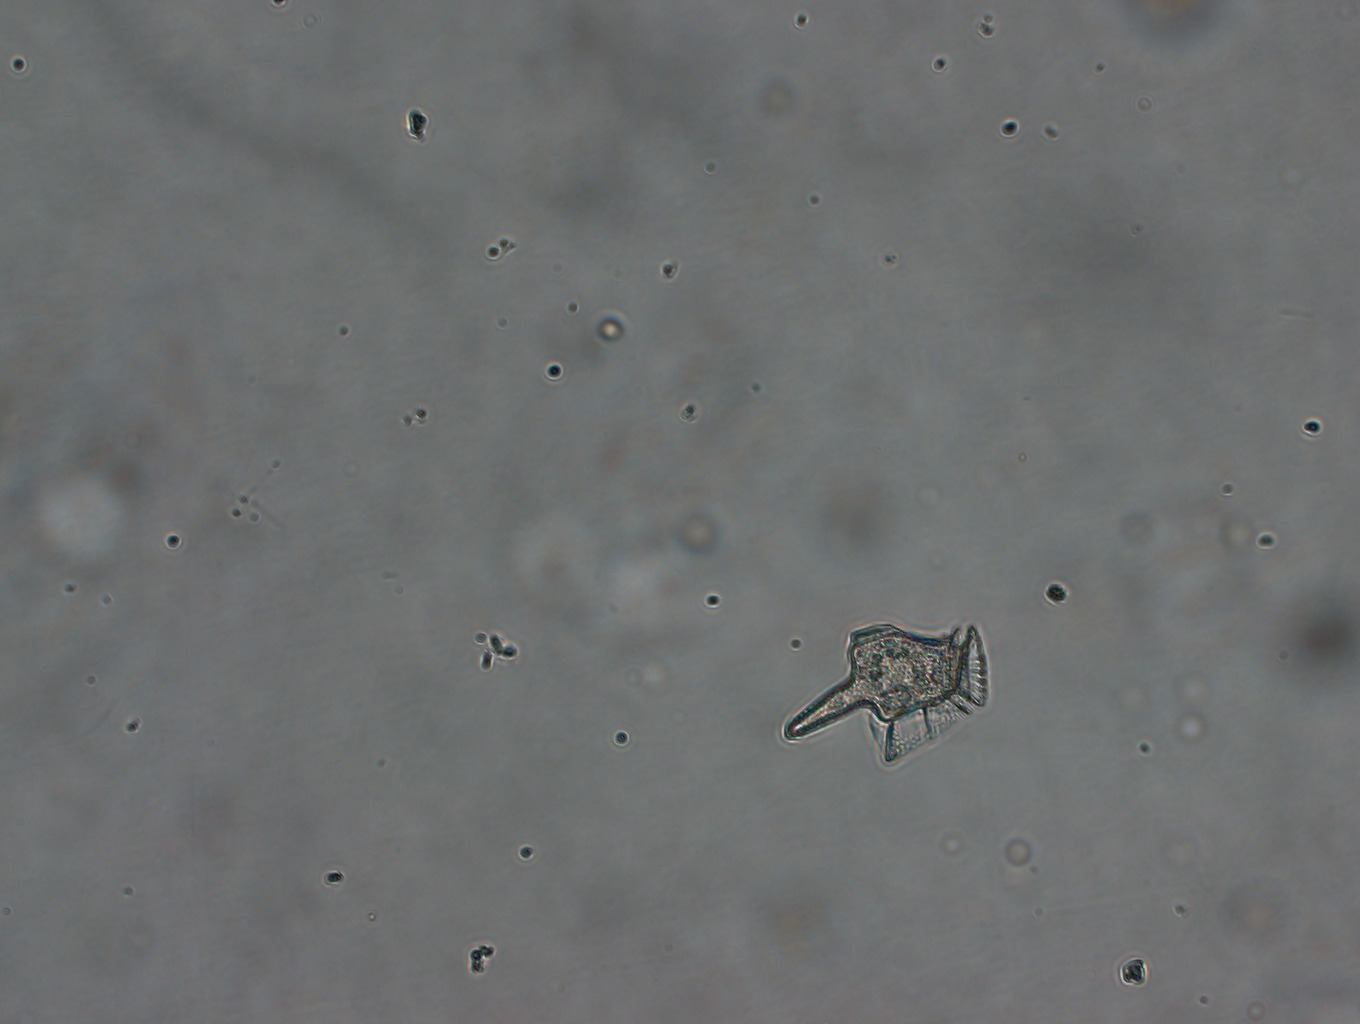dinophysis caudata: (779, 620, 1000, 790)
